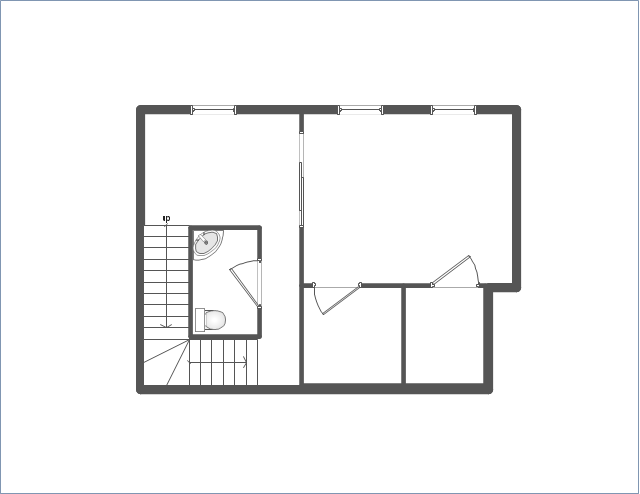wall: (136, 384, 491, 394), (136, 109, 144, 381), (482, 283, 492, 386)
window: (430, 252, 480, 290), (312, 286, 364, 319), (231, 261, 261, 306), (431, 104, 477, 115), (192, 104, 235, 115), (339, 106, 381, 115)
